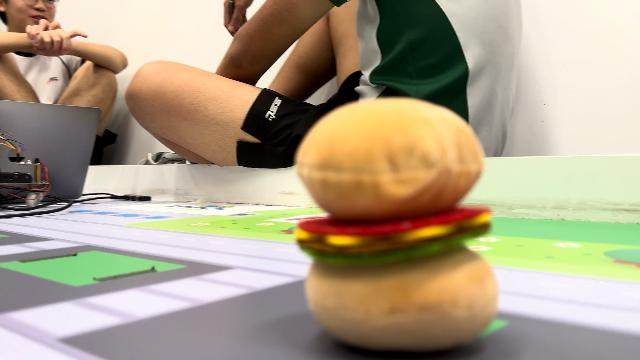burger: (294, 98, 490, 344)
